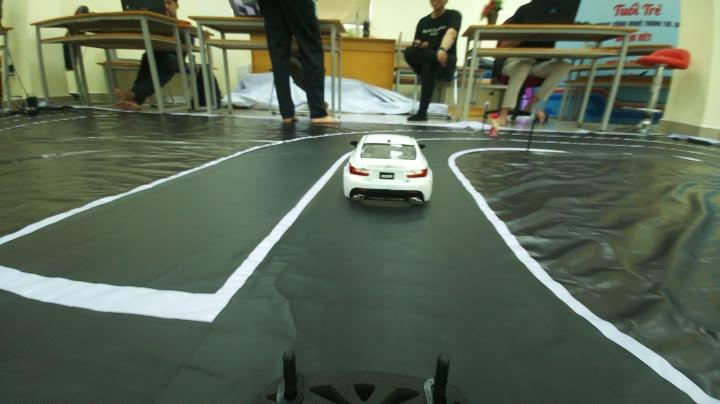car: (339, 122, 429, 204)
